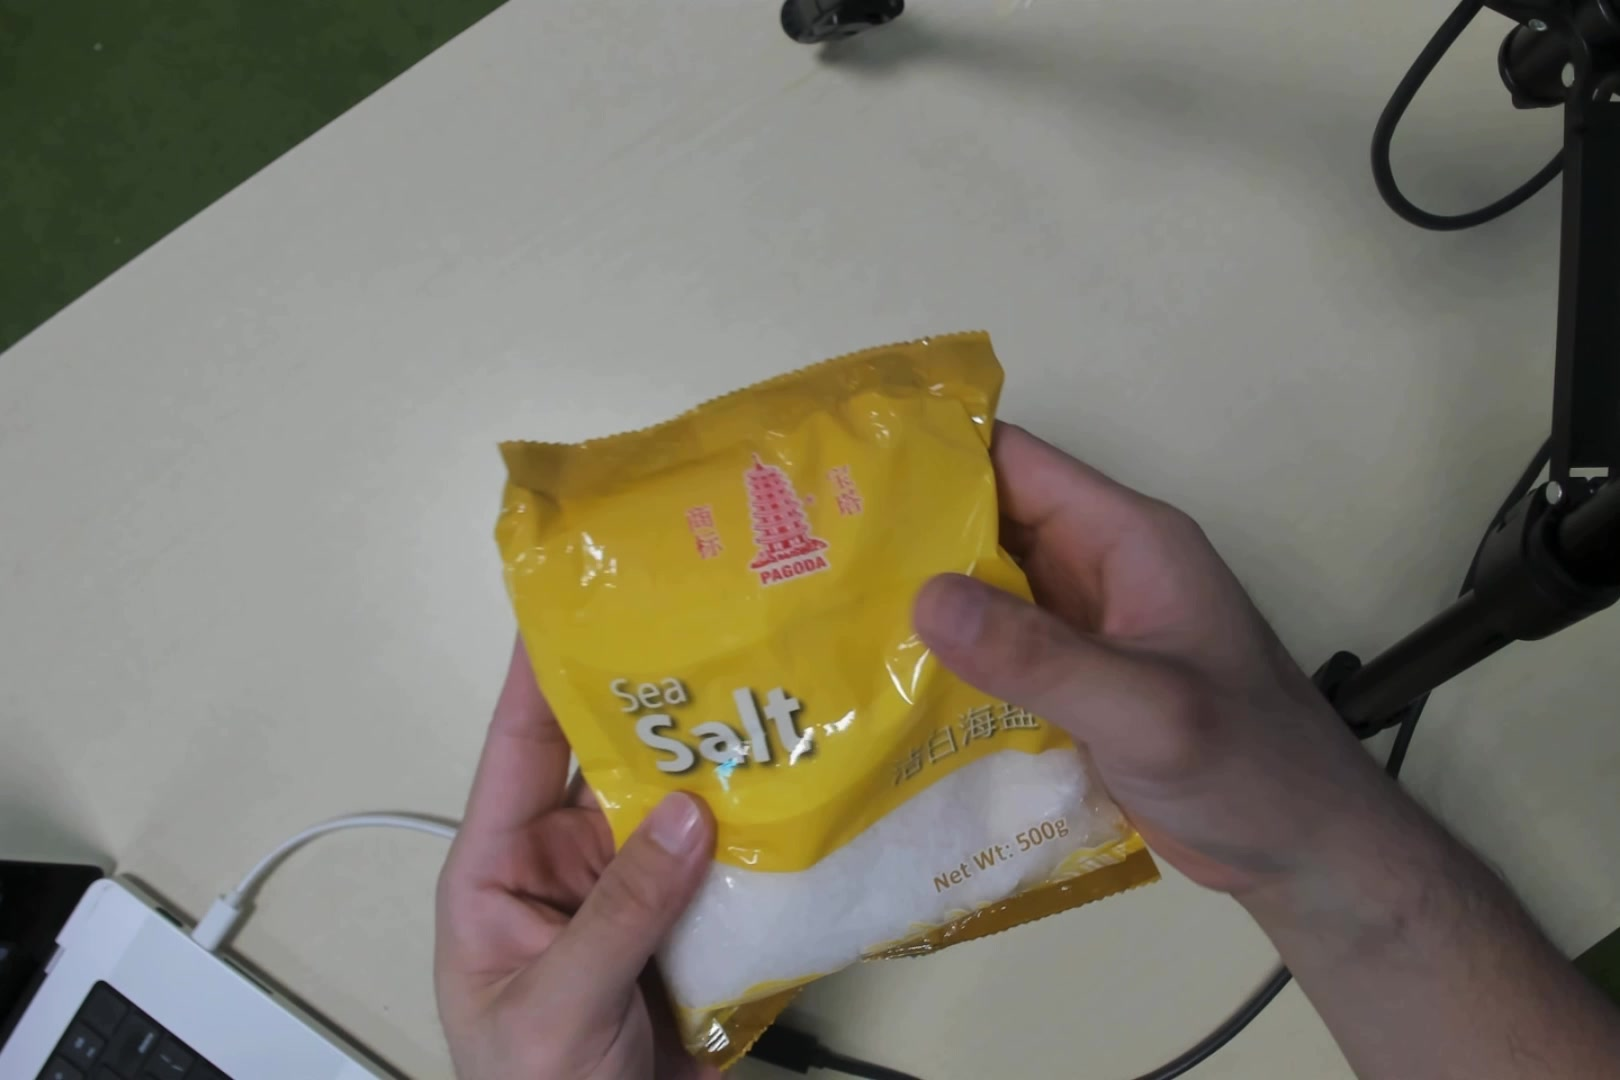Salt_500-599g_Halal_NonHealthy: (559, 374, 1107, 1017)
